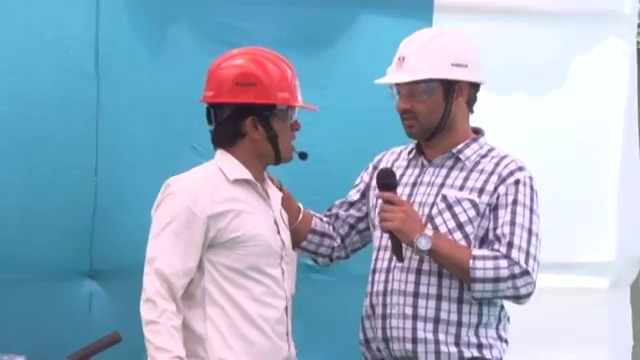helmet: (196, 46, 320, 113), (372, 25, 489, 88)
helmet_on: (195, 45, 321, 171), (371, 24, 491, 153)
person: (277, 24, 542, 360), (139, 46, 318, 360)
